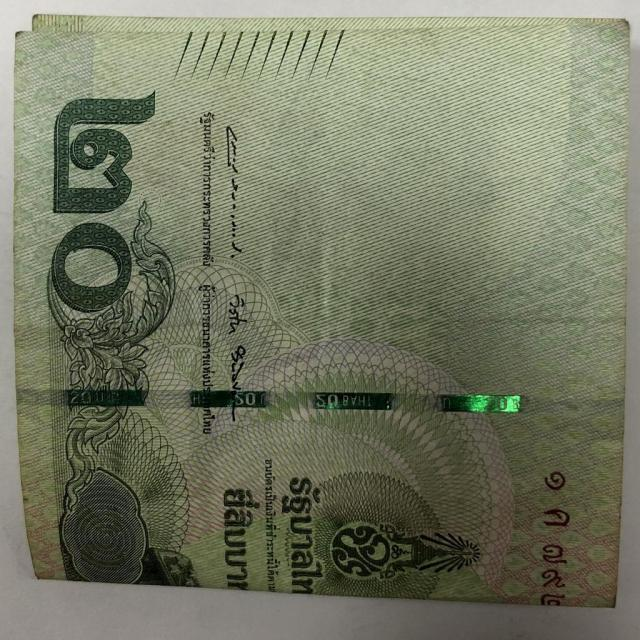THAI20: (14, 14, 629, 608)
